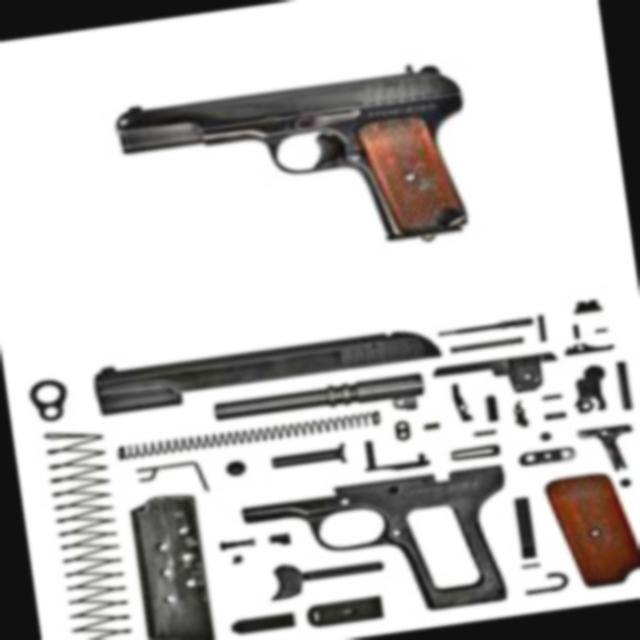semi automatic: (73, 22, 564, 330)
